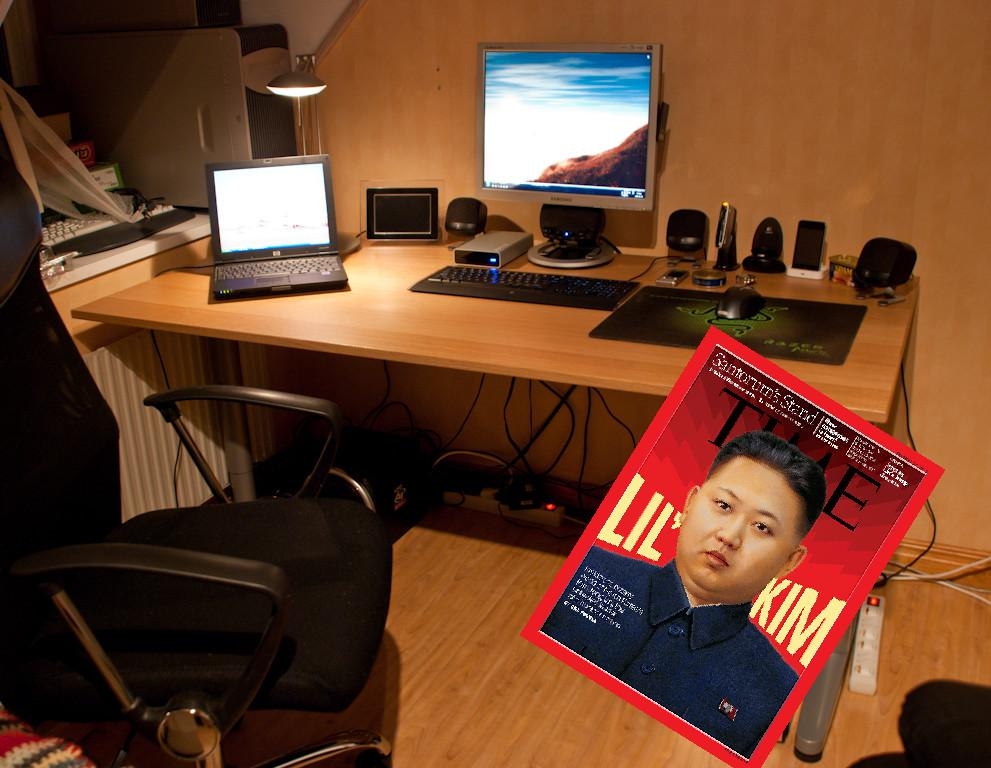times: (519, 324, 946, 768)
